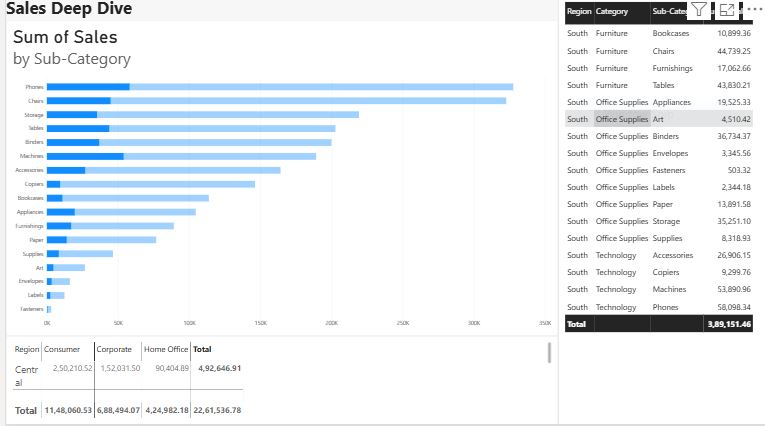

The page's visual inventory and layout, read from the dashboard file:
{"tool":"powerbi","page":{"name":"Page 2","canvas":[1920,1080],"ordinal":1},"visuals":[{"type":"textbox","box":[0,0,672.8,120.9],"z":0},{"type":"clusteredBarChart","fields":{"Category":["superstore_summary.Sub-Category"],"Y":["Sum(superstore_summary.Sales)"]},"box":[0,60.5,1390.9,796.2],"z":1},{"type":"tableEx","fields":{"Values":["superstore_summary.Region","superstore_summary.Category","superstore_summary.Sub-Category","Sum(superstore_summary.Sales)"]},"box":[1390.9,0,529.1,1080.9],"z":2},{"type":"pivotTable","fields":{"Columns":["superstore_summary.Segment"],"Rows":["superstore_summary.Region"],"Values":["Sum(superstore_summary.Sales)"]},"box":[0,856.7,1390.9,224.3],"z":3}]}

Visuals, with their boxes in screenshot pixels (x1, y1, x2, y2), scaled from the page's 1920x1080 canvas onto the 765x426 screenshot:
textbox: bbox=(0, 0, 268, 48)
clusteredBarChart - superstore_summary.Sub-Category x Sum(superstore_summary.Sales): bbox=(0, 24, 554, 338)
tableEx - superstore_summary.Region x superstore_summary.Category: bbox=(554, 0, 764, 425)
pivotTable - superstore_summary.Segment x superstore_summary.Region: bbox=(0, 338, 554, 425)
